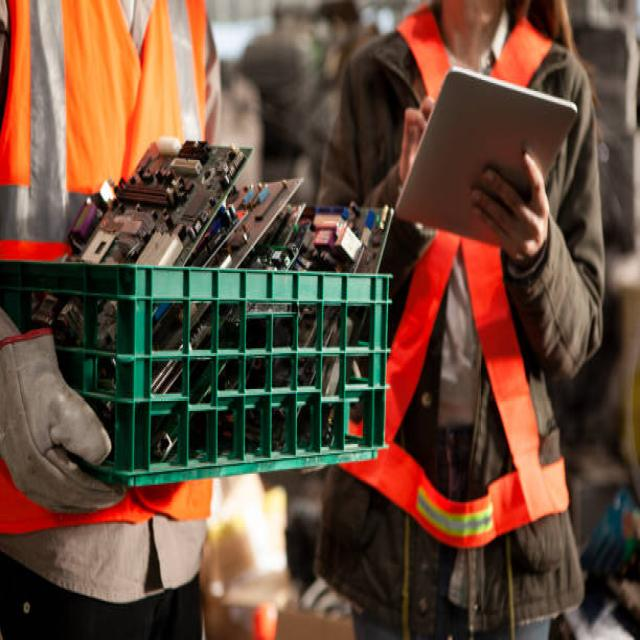plastic: (1, 259, 384, 458)
